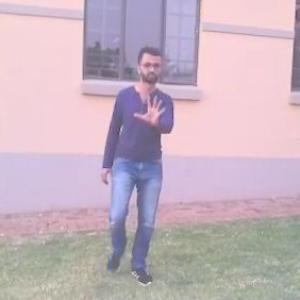follow_hand: (132, 92, 166, 128)
